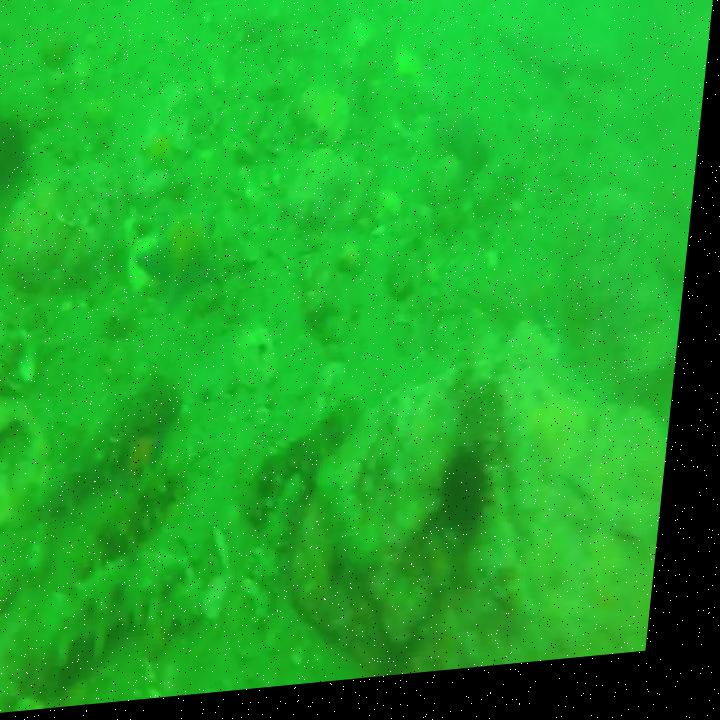echinus: (449, 460, 508, 544), (0, 98, 38, 199)
holothurian: (51, 378, 188, 512), (70, 555, 208, 663), (266, 406, 393, 510), (88, 457, 198, 569)
scallop: (292, 68, 360, 162), (120, 208, 166, 293), (0, 328, 50, 399), (235, 332, 286, 399)
